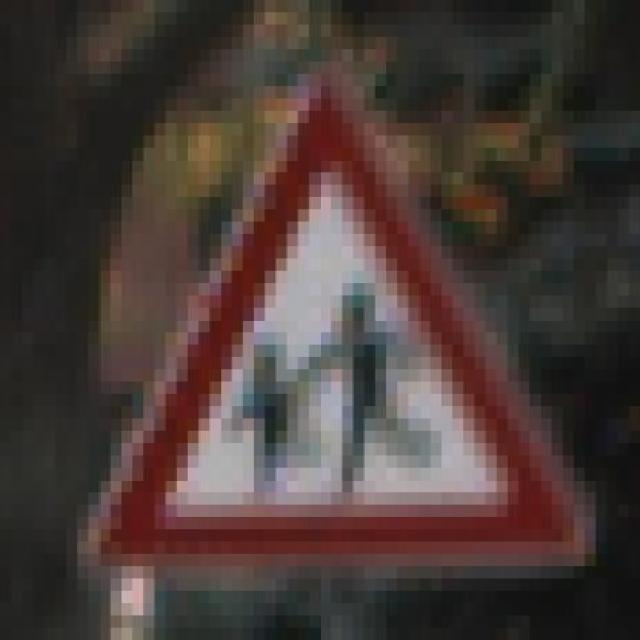Beware of children: (55, 74, 596, 591)
